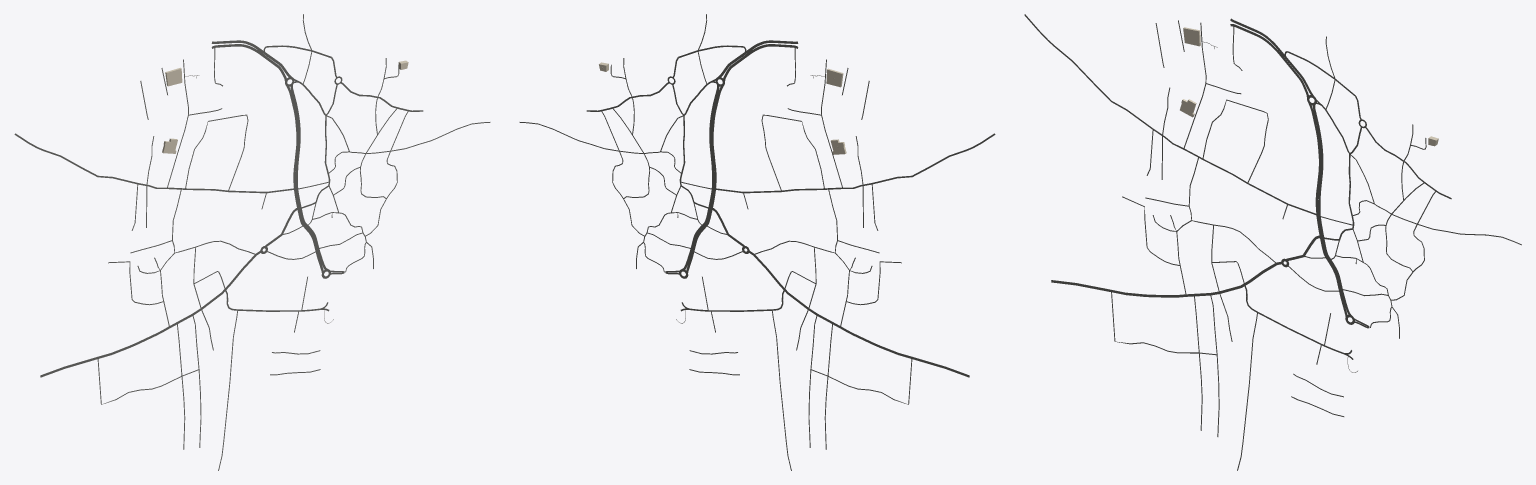
Rendered from historic-palestine-08_30_3504_3241.glb.
The picture shows the model from 3 angles, left to right: view 1: azimuth 30°, elevation 25°; view 2: azimuth 150°, elevation 25°; view 3: azimuth 330°, elevation 25°; orthographic projection. The views are drawn at different scales.
Visible parts, largest first — view 1: Road .046, Road الخلفاء الراشدون, Road القدس.003, Road القدس.002; view 2: Road .046, Road الخلفاء الراشدون, Road القدس.002, Road القدس.003; view 3: Road .046, Road الخلفاء الراشدون, Road القدس.002, Road القدس.003.
Boxes of the visible parts, x1,y1,x2,y2 form: Road .046: (40, 250, 261, 377); Road الخلفاء الراشدون: (14, 133, 294, 193); Road القدس.003: (290, 85, 328, 270); Road القدس.002: (286, 86, 323, 273); Road .046: (748, 251, 969, 377); Road الخلفاء الراشدون: (716, 133, 995, 193); Road القدس.002: (686, 84, 723, 272); Road القدس.003: (681, 84, 719, 270); Road .046: (1051, 262, 1282, 297); Road الخلفاء الراشدون: (1024, 14, 1317, 214); Road القدس.002: (1308, 102, 1347, 317); Road القدس.003: (1312, 103, 1351, 315).
Bounding box in the file's own units: 1654 × 1448 × 16.7.
